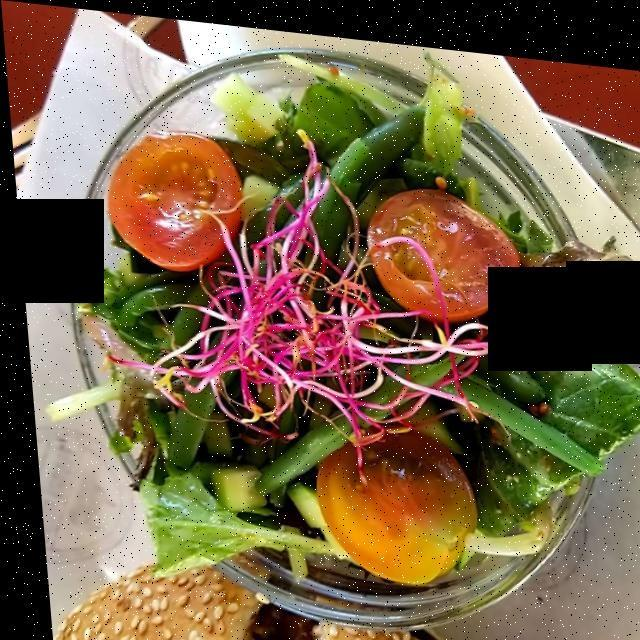cucumber: (198, 68, 316, 518)
salad: (35, 64, 640, 578)
shoots: (158, 172, 507, 420)
tomato: (108, 122, 522, 581)
